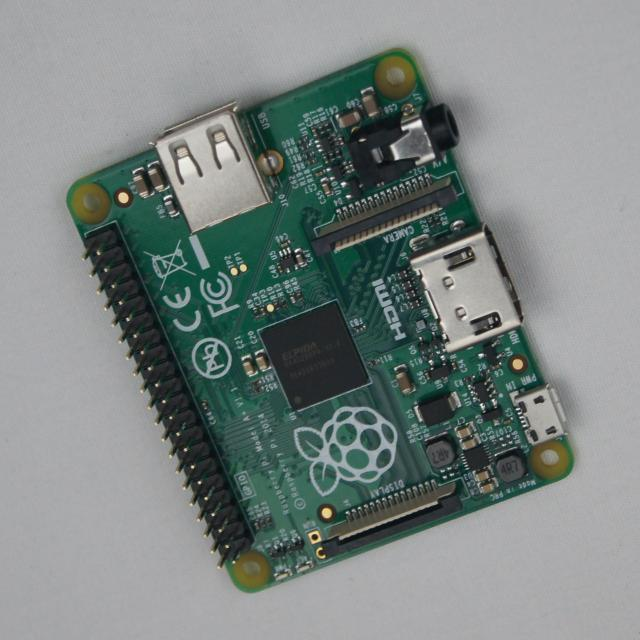Raspberry-Pi-1-A-: (67, 49, 574, 592)
